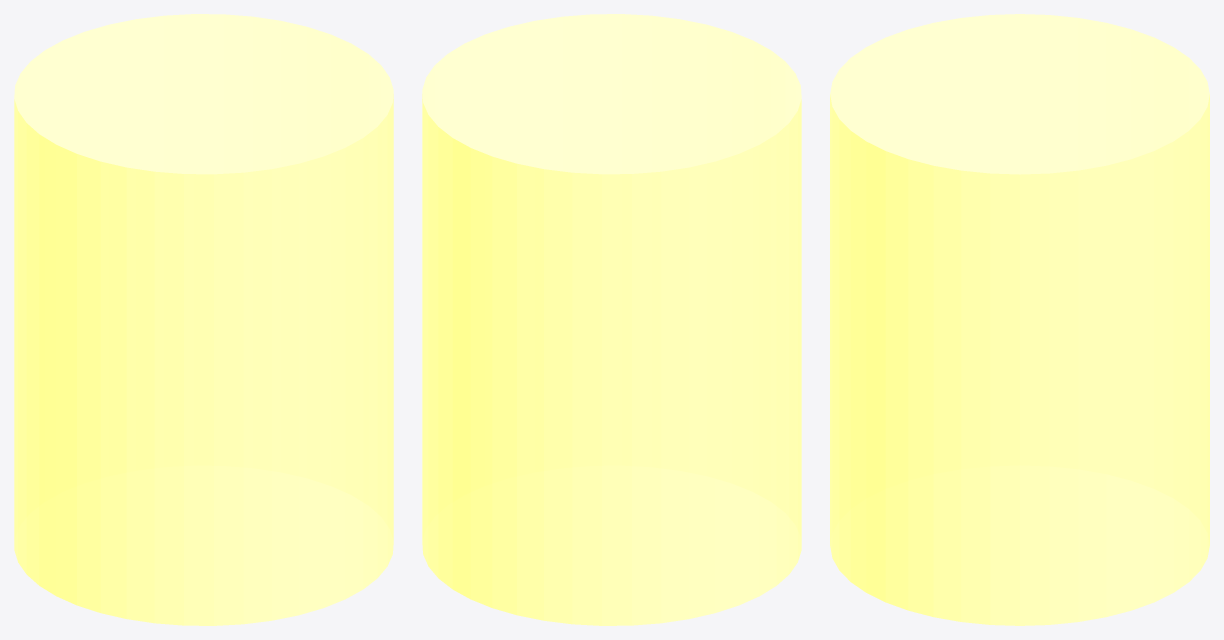
File: acid_liquid.glb
3 views of the same model, side by side, from view 1: azimuth 30°, elevation 25°; view 2: azimuth 150°, elevation 25°; view 3: azimuth 270°, elevation 25° (orthographic).
Visible parts, largest first — view 1: Liquid; view 2: Liquid; view 3: Liquid.
Part boxes in pixels (x1,y1,x2,y2): Liquid: (14,14,393,625); Liquid: (422,14,801,625); Liquid: (830,14,1209,625).
Size of the model in its own units: 0.61 by 0.8 by 0.61.
